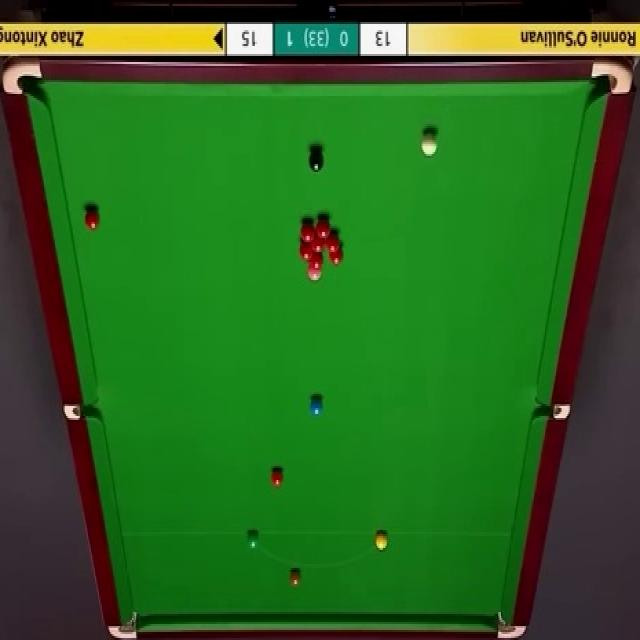black-ball: (309, 150, 324, 172)
blue-ball: (310, 397, 323, 416)
brown-ball: (290, 569, 302, 587)
green-ball: (247, 530, 260, 551)
pink-ball: (308, 266, 322, 282)
red-ball: (85, 208, 100, 231), (316, 216, 330, 238), (327, 231, 340, 253), (330, 245, 344, 265), (271, 466, 284, 487), (311, 232, 325, 250), (306, 253, 321, 269), (301, 222, 314, 240), (302, 242, 312, 259)
white-ball: (421, 132, 439, 156)
yellow-ball: (376, 532, 388, 550)
